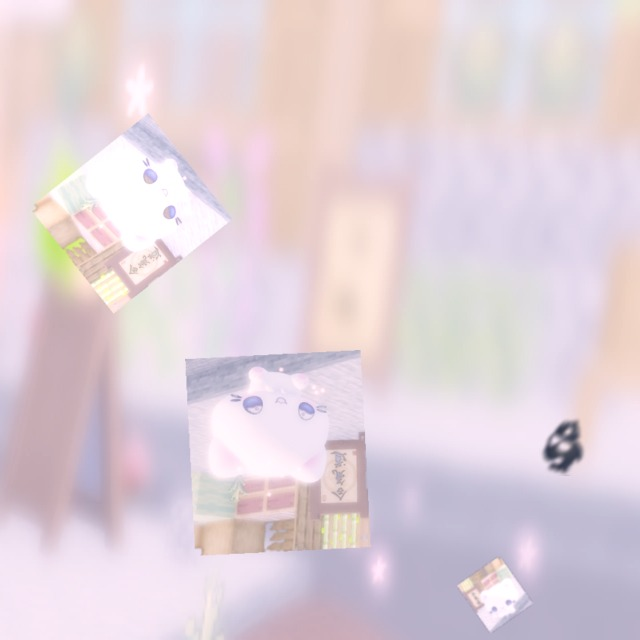urso_branco: (29, 113, 233, 314), (185, 350, 371, 556), (457, 556, 533, 633)
urso_preto: (539, 413, 592, 476)
